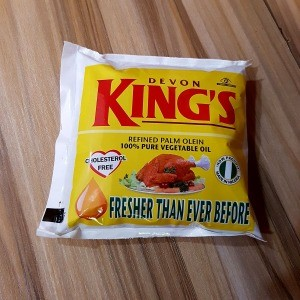vegetable oil_brain food: (50, 77, 250, 203)
